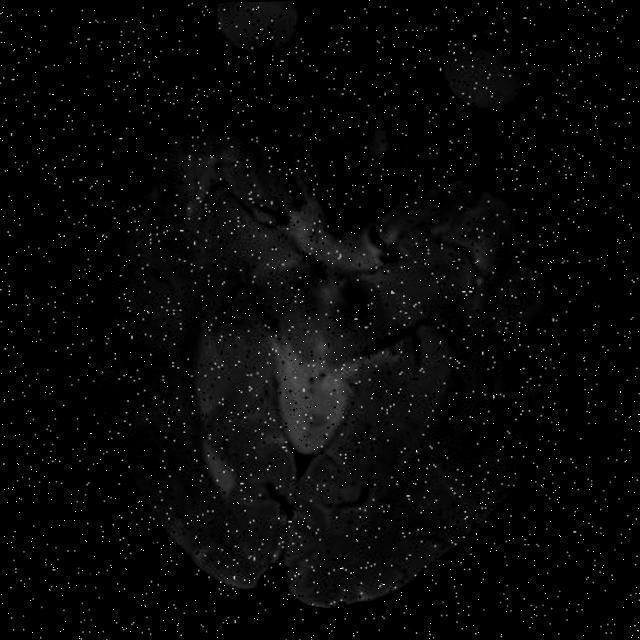LMCI: (155, 283, 254, 422), (380, 348, 458, 472)
